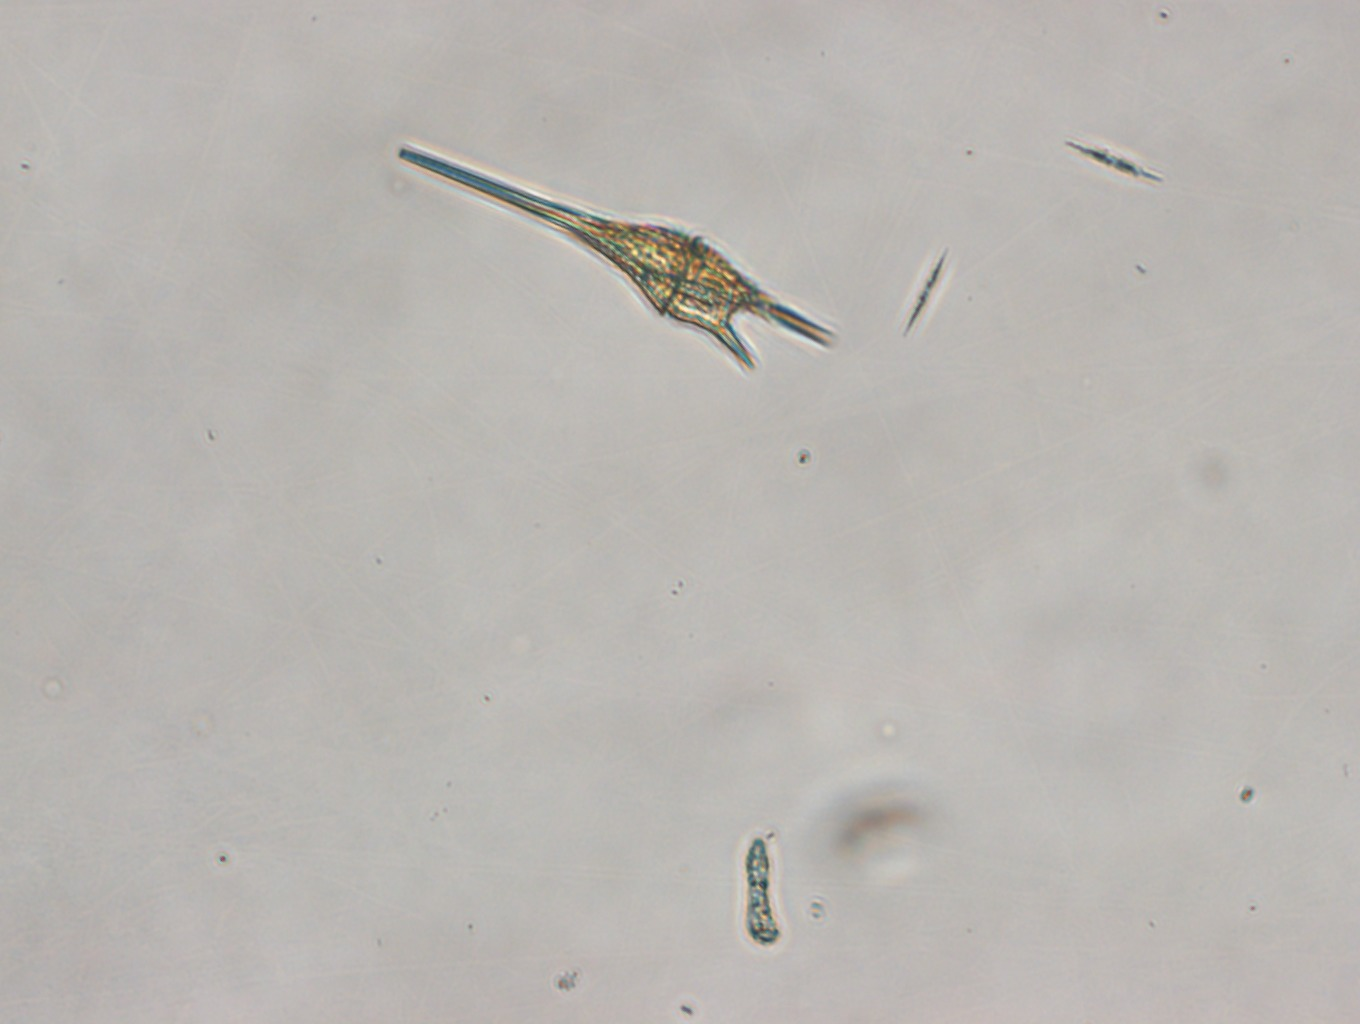ceratium furca: (396, 140, 842, 376)
navicula: (1062, 138, 1168, 185), (905, 247, 949, 338)
